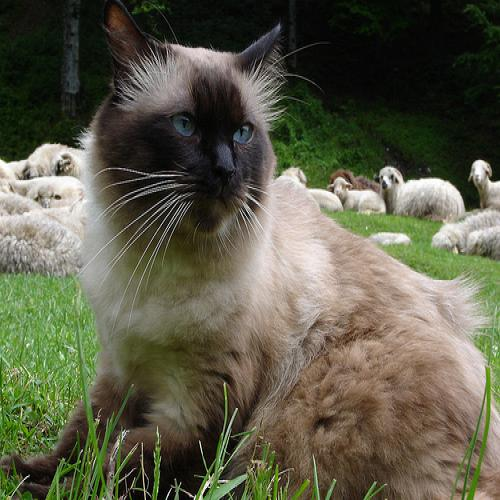siamese: (80, 1, 302, 250)
